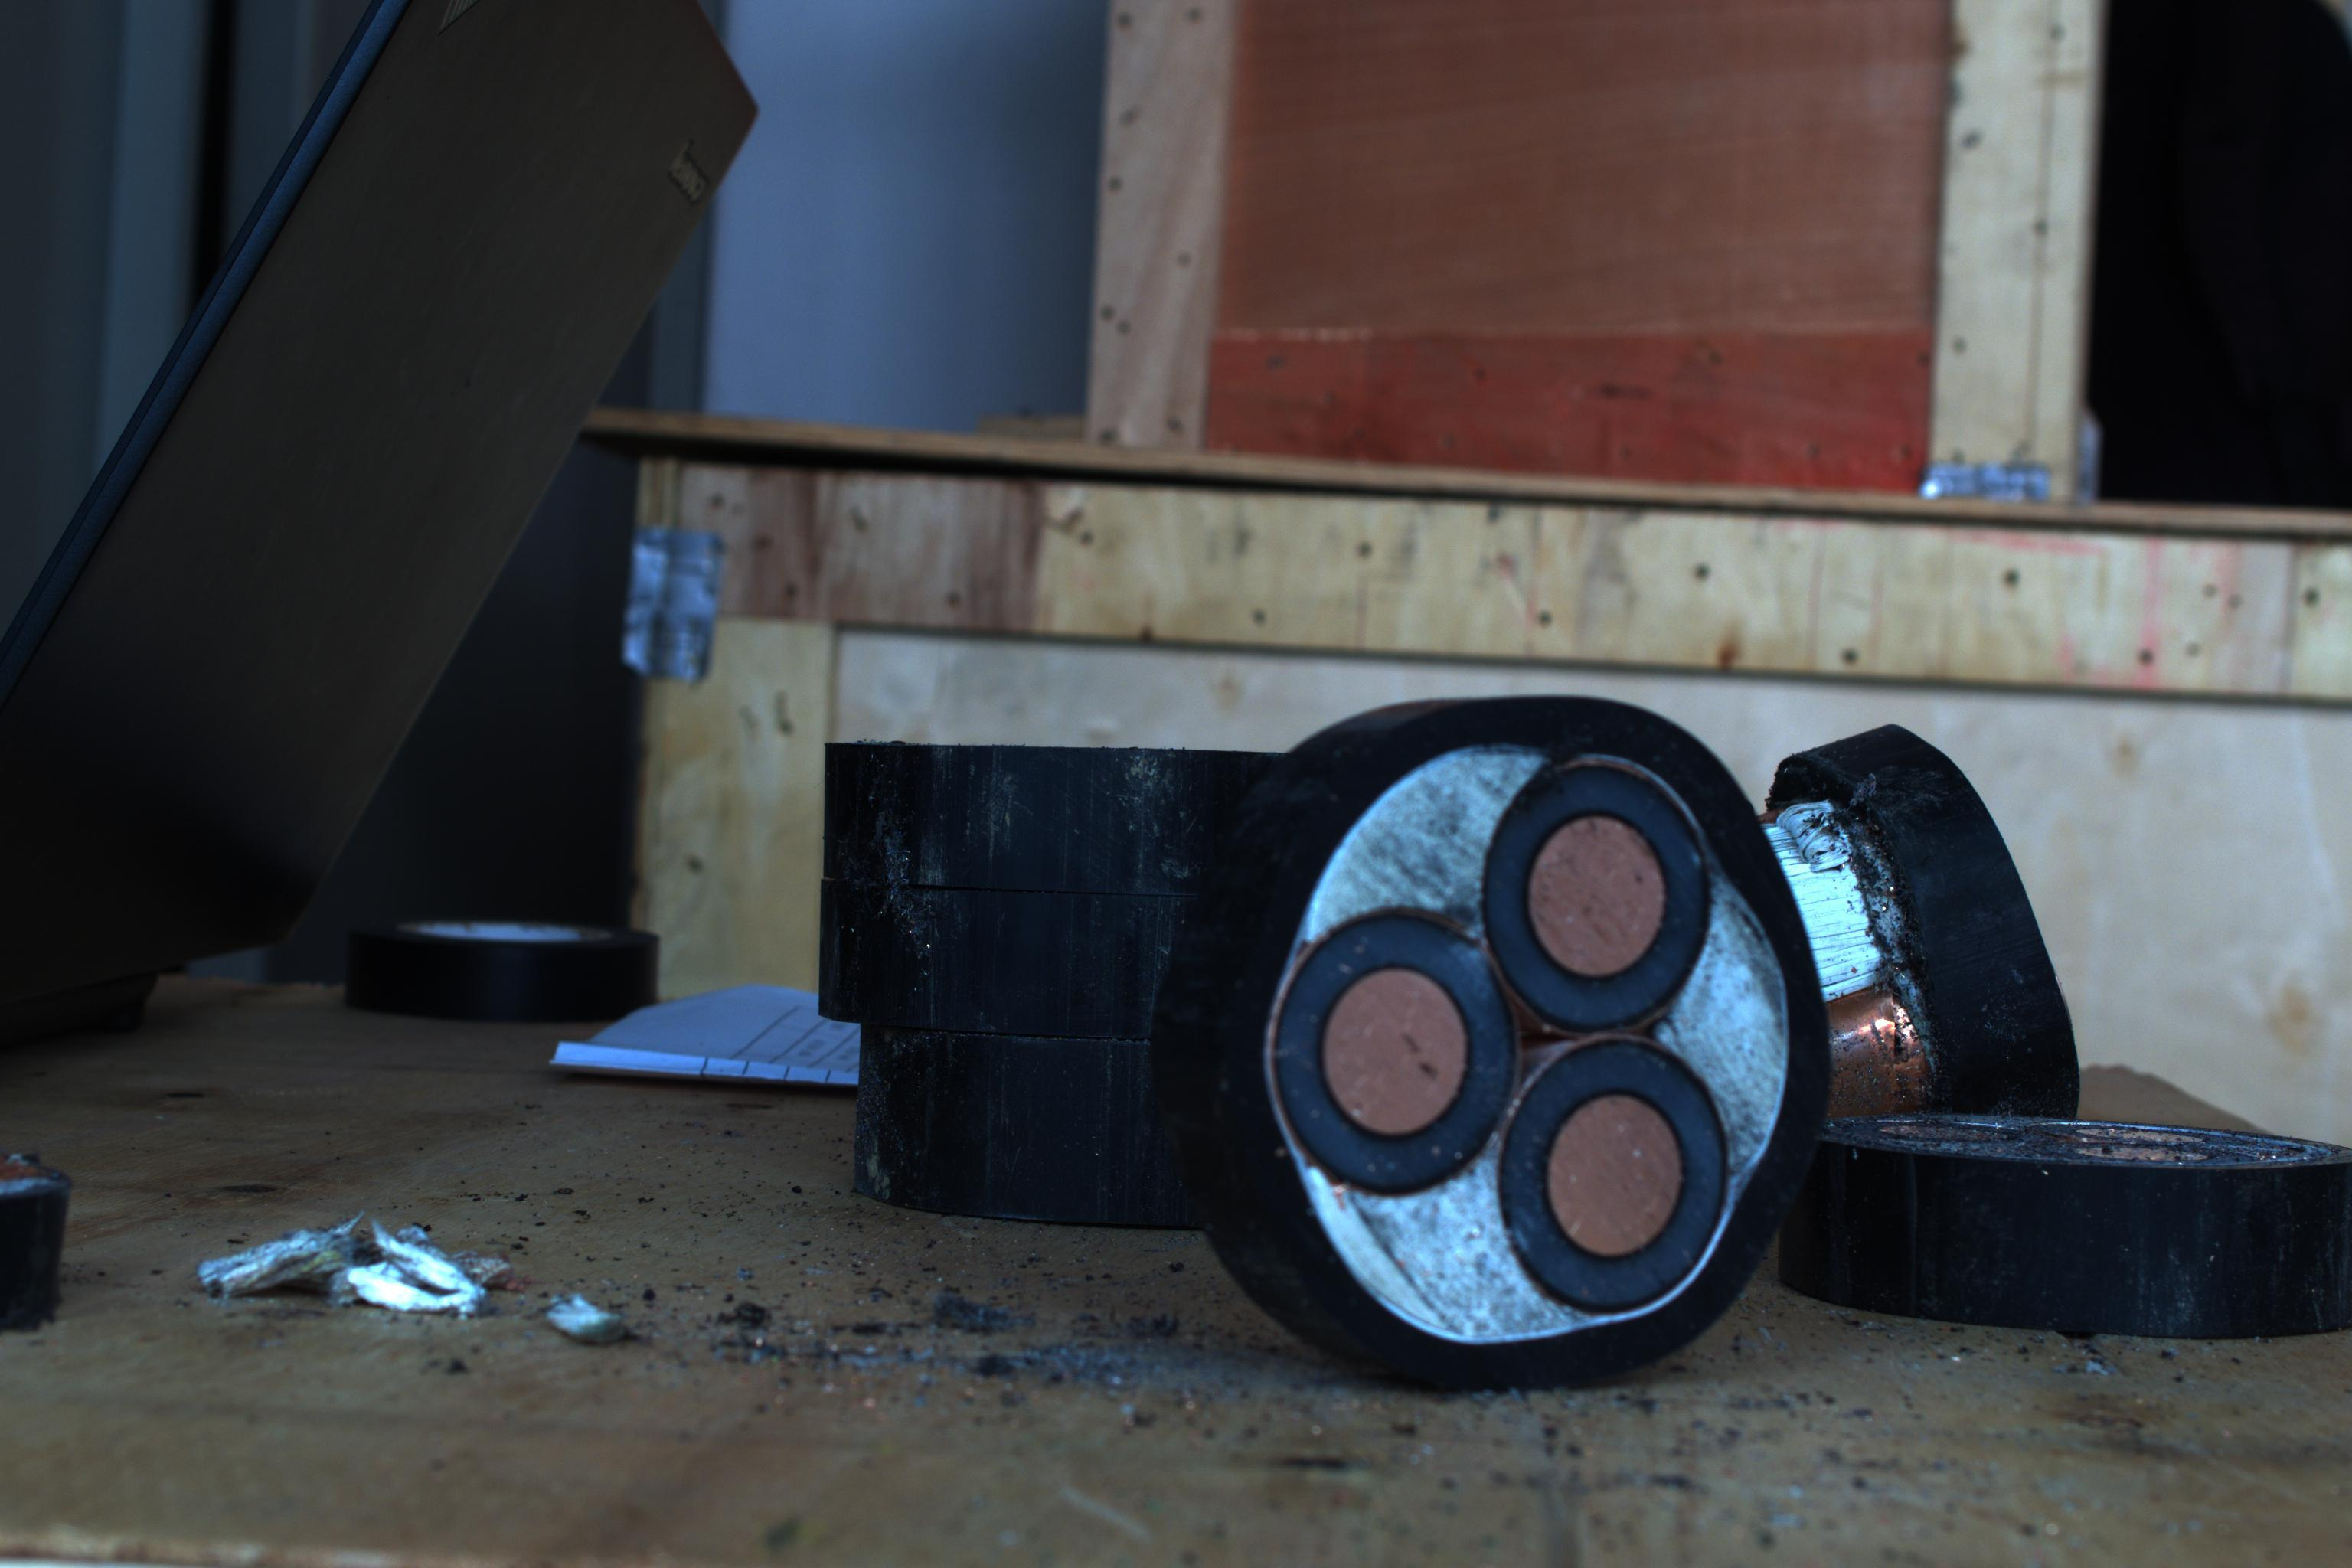ZA_YJV_8.7_10kV_3x240: (1227, 716, 1820, 1374)
